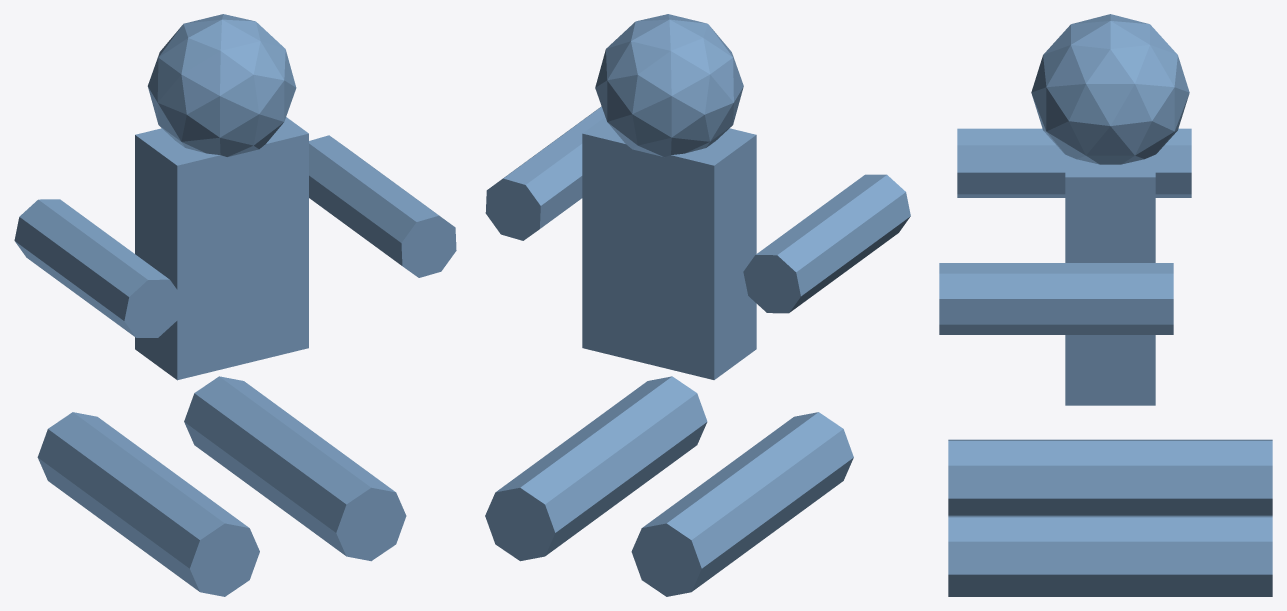
File: lowpoly_humanoid_blue.glb
3 views of the same model, side by side, from view 1: azimuth 30°, elevation 25°; view 2: azimuth 150°, elevation 25°; view 3: azimuth 270°, elevation 25° (orthographic). The views are drawn at different scales.
Parts seen in each view (by area): view 1: world; view 2: world; view 3: world.
Part boxes in pixels (x1=…): world: x1=14, y1=14, x2=456, y2=596; world: x1=485, y1=14, x2=910, y2=596; world: x1=939, y1=14, x2=1272, y2=596.
Bounding box in the file's own units: 1.11 × 1.64 × 0.925.
